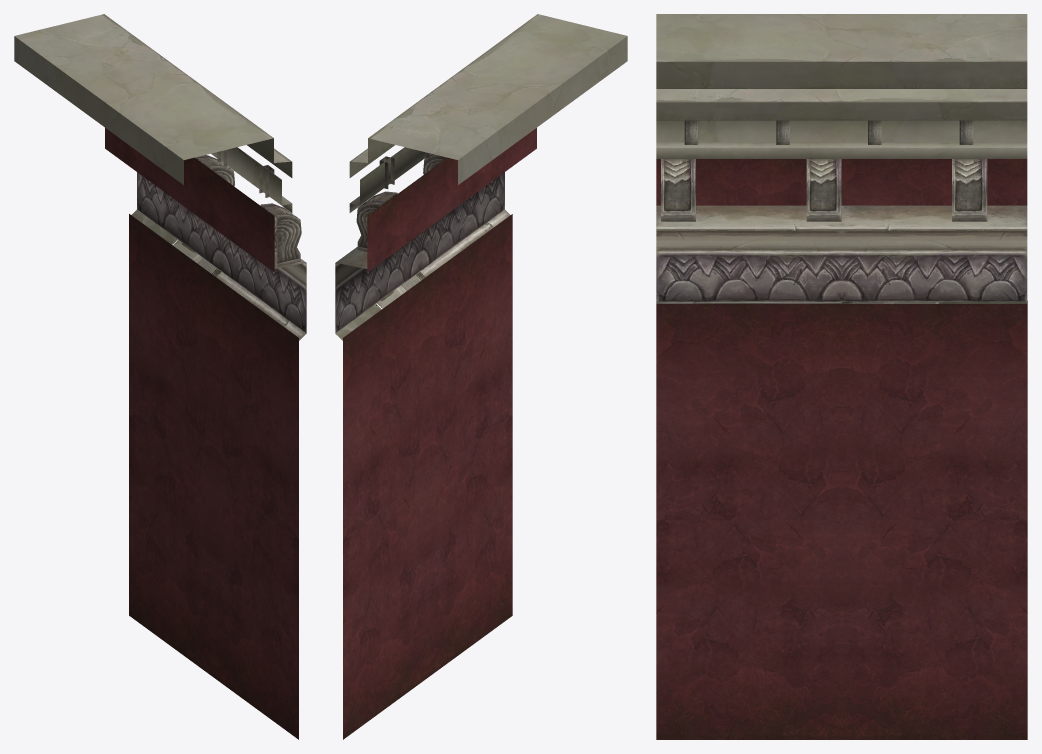
File: cj_xinshou_qiang03_54_01_5981out.fbx
3 views of the same model, side by side, from view 1: azimuth 30°, elevation 25°; view 2: azimuth 150°, elevation 25°; view 3: azimuth 270°, elevation 25° (orthographic). The views are drawn at different scales.
Visible parts, largest first — view 1: cj_xinshou_qiang03; view 2: cj_xinshou_qiang03; view 3: cj_xinshou_qiang03.
Part boxes in pixels (x1,y1,x2,y2): cj_xinshou_qiang03: [14, 14, 306, 739]; cj_xinshou_qiang03: [335, 14, 627, 739]; cj_xinshou_qiang03: [656, 14, 1027, 739].
Bounding box in the file's own units: 1.04 × 4.91 × 2.49.
